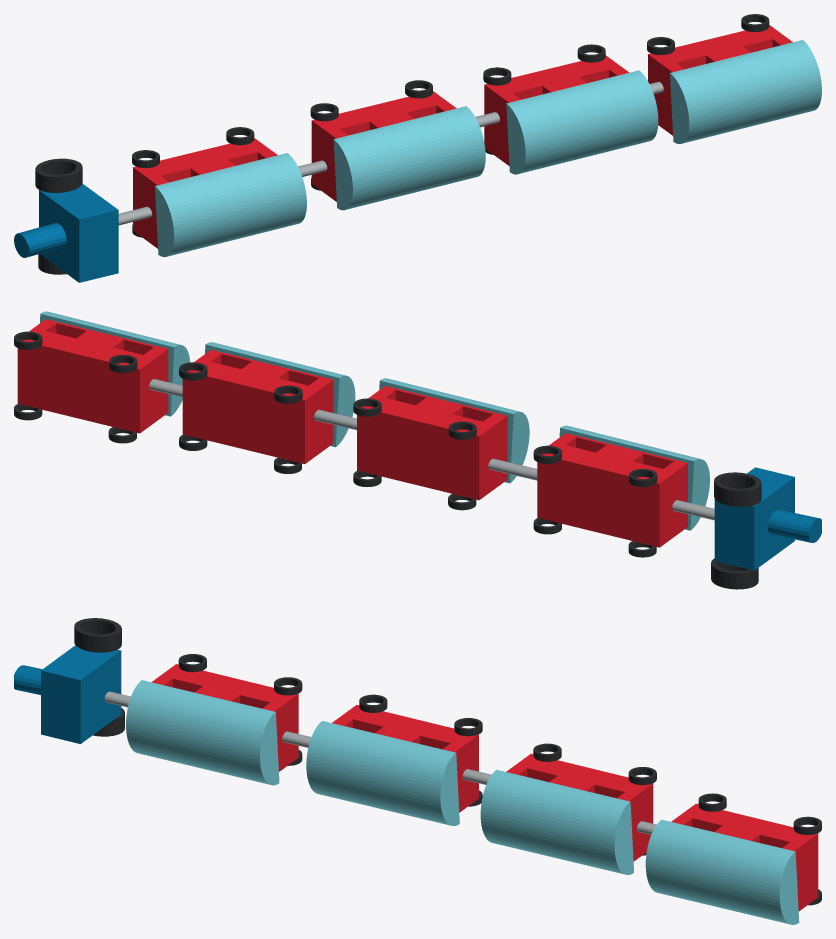
File: tinker.obj
The picture shows the model from 3 angles, top to bottom: view 1: azimuth 30°, elevation 25°; view 2: azimuth 150°, elevation 25°; view 3: azimuth 330°, elevation 25°; orthographic projection.
Visible parts, largest first — view 1: group_0_7720667, group_0_15277357, group_0_30377, group_0_2829873, group_0_10988977; view 2: group_0_15277357, group_0_2829873, group_0_7720667, group_0_30377, group_0_10988977; view 3: group_0_7720667, group_0_15277357, group_0_30377, group_0_2829873, group_0_10988977.
Part boxes in pixels (x1,y1,x2,y2): group_0_7720667: (155,40,821,257); group_0_15277357: (133,25,792,248); group_0_30377: (14,183,118,282); group_0_2829873: (35,14,769,274); group_0_10988977: (118,81,663,225); group_0_15277357: (17,319,687,547); group_0_2829873: (14,331,761,589); group_0_7720667: (40,311,709,530); group_0_30377: (714,467,821,570); group_0_10988977: (149,379,714,520); group_0_7720667: (126,680,799,924); group_0_15277357: (151,664,818,911); group_0_30377: (14,645,121,743); group_0_2829873: (74,618,821,905); group_0_10988977: (104,691,656,834).
Bounding box in the file's own units: 257 × 32 × 31.
